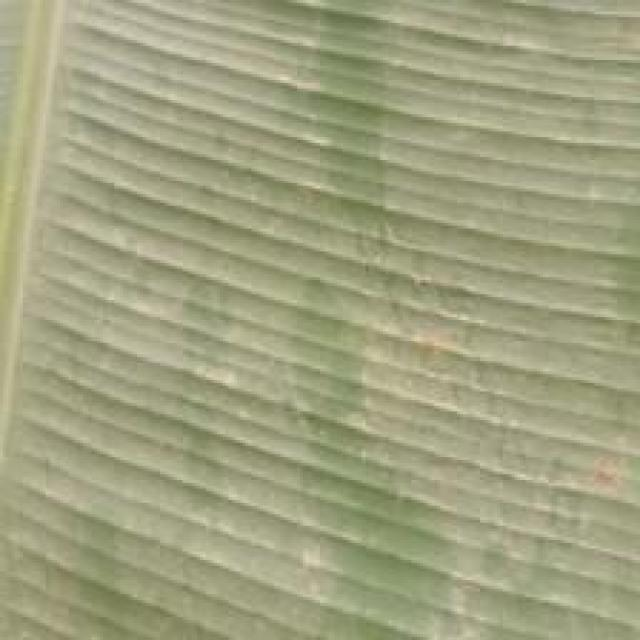Black_leaf_spot: (0, 0, 630, 619)
